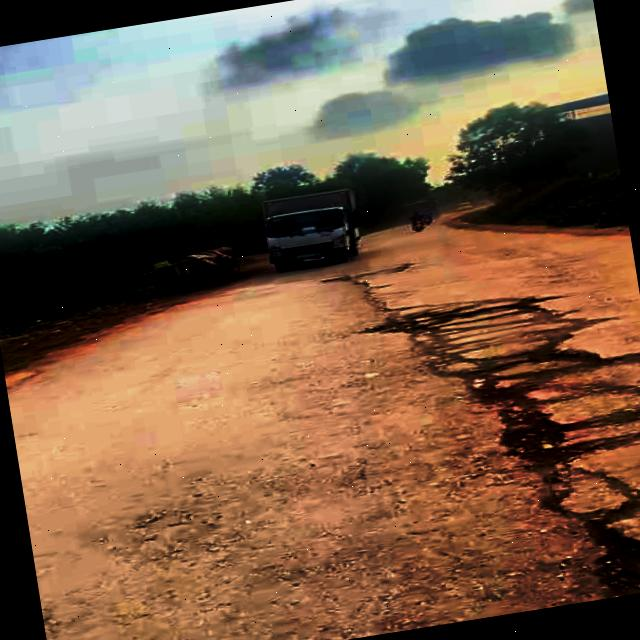pothole: (454, 342, 640, 485), (358, 280, 550, 346), (564, 481, 640, 602)
